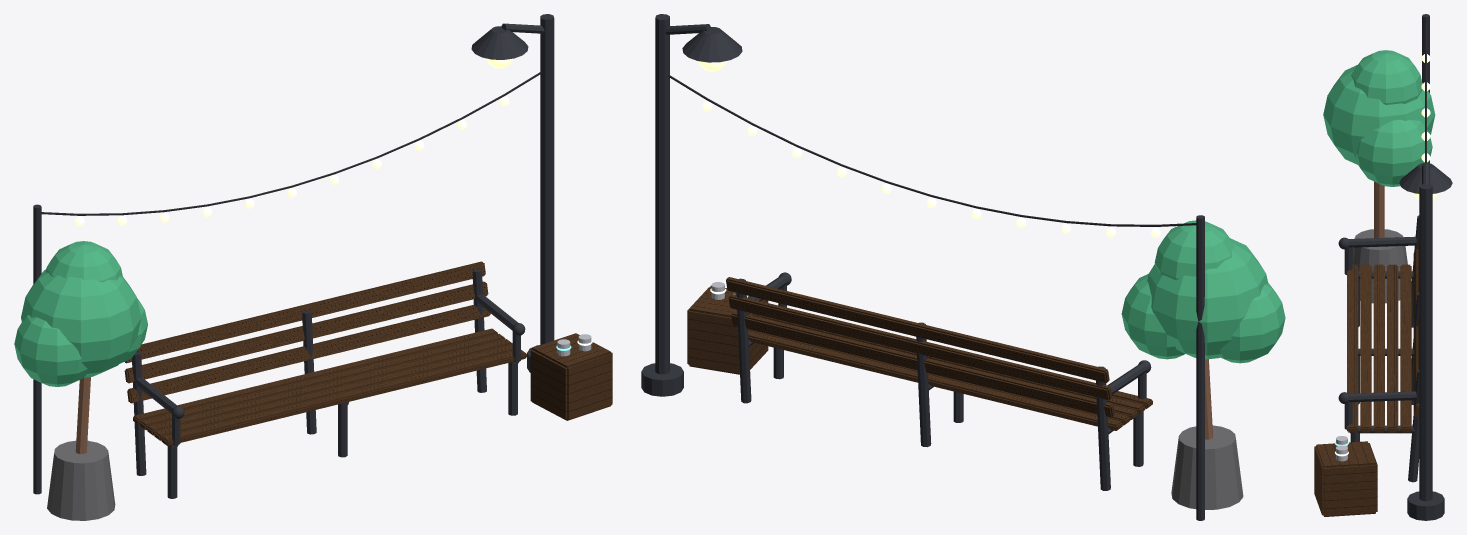
The model's file is bench.glb.
3 views of the same model, side by side, from view 1: azimuth 30°, elevation 25°; view 2: azimuth 150°, elevation 25°; view 3: azimuth 270°, elevation 25° (orthographic). The views are drawn at different scales.
Visible parts, largest first — view 1: Seat slat, Front leg, Leaves, Pot, String 1, Lamp bulb, Trunk; view 2: Seat slat, Front leg, Leaves, Pot, String 1, Lamp bulb; view 3: Seat slat, Leaves, Front leg, Pot, Trunk, Lamp bulb, String 1, Mug.
Boxes of the visible parts, left/top/right/bottom form: Seat slat: left=124, top=261, right=612, bottom=445; Front leg: left=33, top=14, right=554, bottom=498; Leaves: left=14, top=241, right=147, bottom=386; Pot: left=47, top=440, right=115, bottom=520; String 1: left=41, top=72, right=541, bottom=215; Lamp bulb: left=75, top=58, right=592, bottom=345; Trunk: left=75, top=377, right=90, bottom=454; Seat slat: left=687, top=277, right=1152, bottom=430; Front leg: left=641, top=14, right=1204, bottom=520; Leaves: left=1121, top=220, right=1285, bottom=363; Pot: left=1171, top=425, right=1243, bottom=509; String 1: left=668, top=75, right=1196, bottom=226; Lamp bulb: left=698, top=61, right=1160, bottom=294; Seat slat: left=1314, top=240, right=1419, bottom=516; Leaves: left=1323, top=50, right=1435, bottom=186; Front leg: left=1338, top=14, right=1452, bottom=520; Pot: left=1352, top=229, right=1407, bottom=303; Trunk: left=1374, top=181, right=1384, bottom=238; Lamp bulb: left=1335, top=54, right=1438, bottom=456; String 1: left=1425, top=23, right=1426, bottom=162; Mug: left=1336, top=436, right=1347, bottom=461.
Bounding box in the file's own units: 4.61 × 2.73 × 1.04.
Materials: 9 (1 with a texture image).
